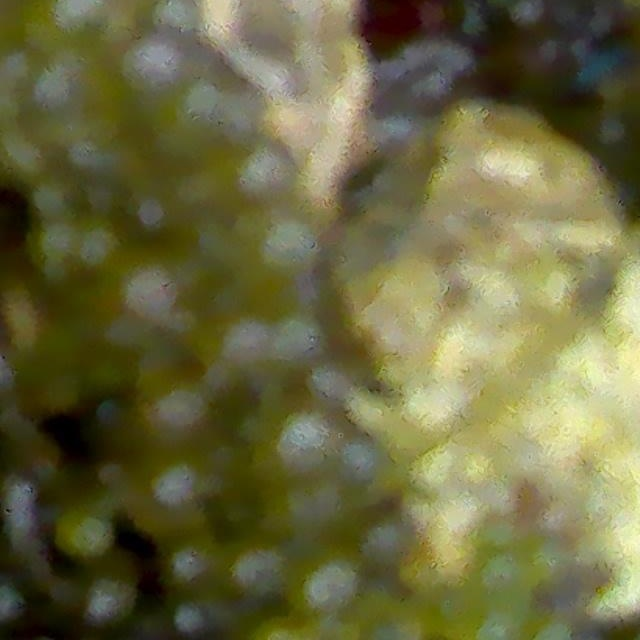SeaGrape: (275, 413, 330, 466)
